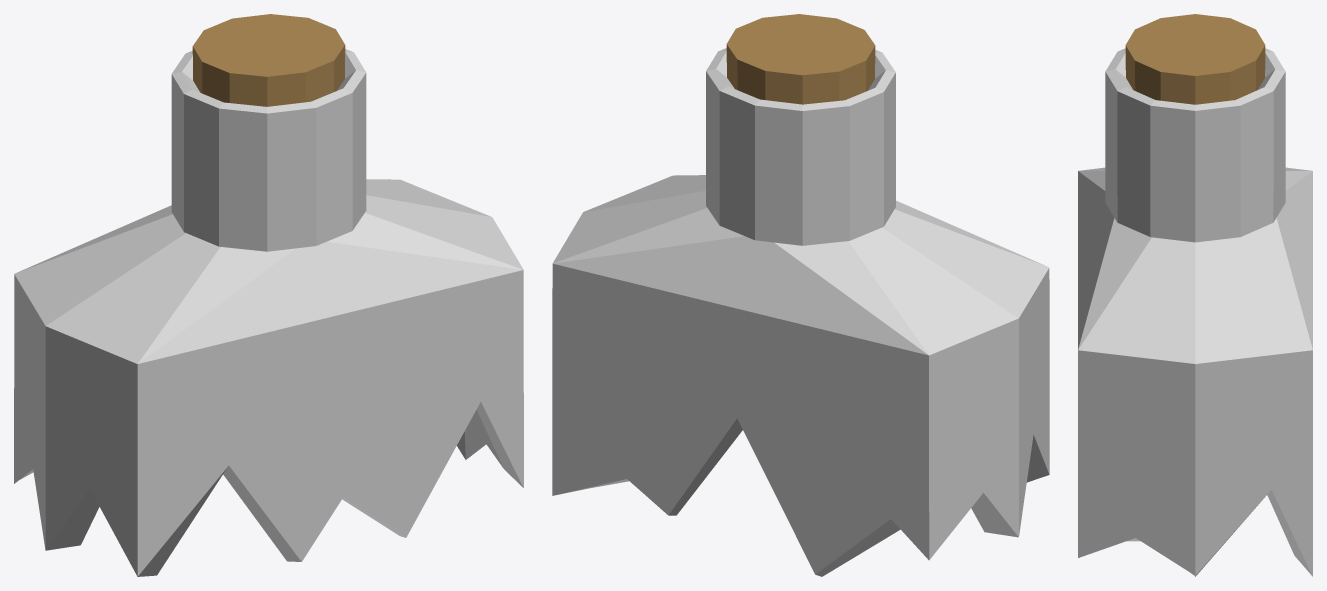
The model's file is LudumDarePoisonBottleBrokenTop(1).fbx.
3 views of the same model, side by side, from view 1: azimuth 30°, elevation 25°; view 2: azimuth 150°, elevation 25°; view 3: azimuth 270°, elevation 25° (orthographic). The views are drawn at different scales.
Parts seen in each view (by area): view 1: Poison Bottle, Poison Bottle.001; view 2: Poison Bottle, Poison Bottle.001; view 3: Poison Bottle, Poison Bottle.001.
Boxes of the visible parts, <box> form: Poison Bottle: <box>14,49,523,576</box>; Poison Bottle.001: <box>192,14,345,106</box>; Poison Bottle: <box>552,48,1049,576</box>; Poison Bottle.001: <box>726,14,875,104</box>; Poison Bottle: <box>1078,48,1312,576</box>; Poison Bottle.001: <box>1125,14,1265,104</box>.
Size of the model in its own units: 5.28 by 5.52 by 2.52.
